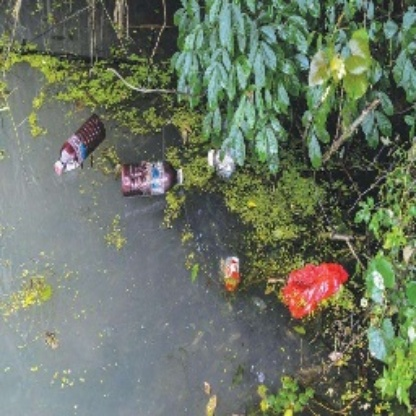bottle: (54, 113, 110, 176), (120, 160, 186, 202)
plastic-bag: (281, 261, 352, 321)
